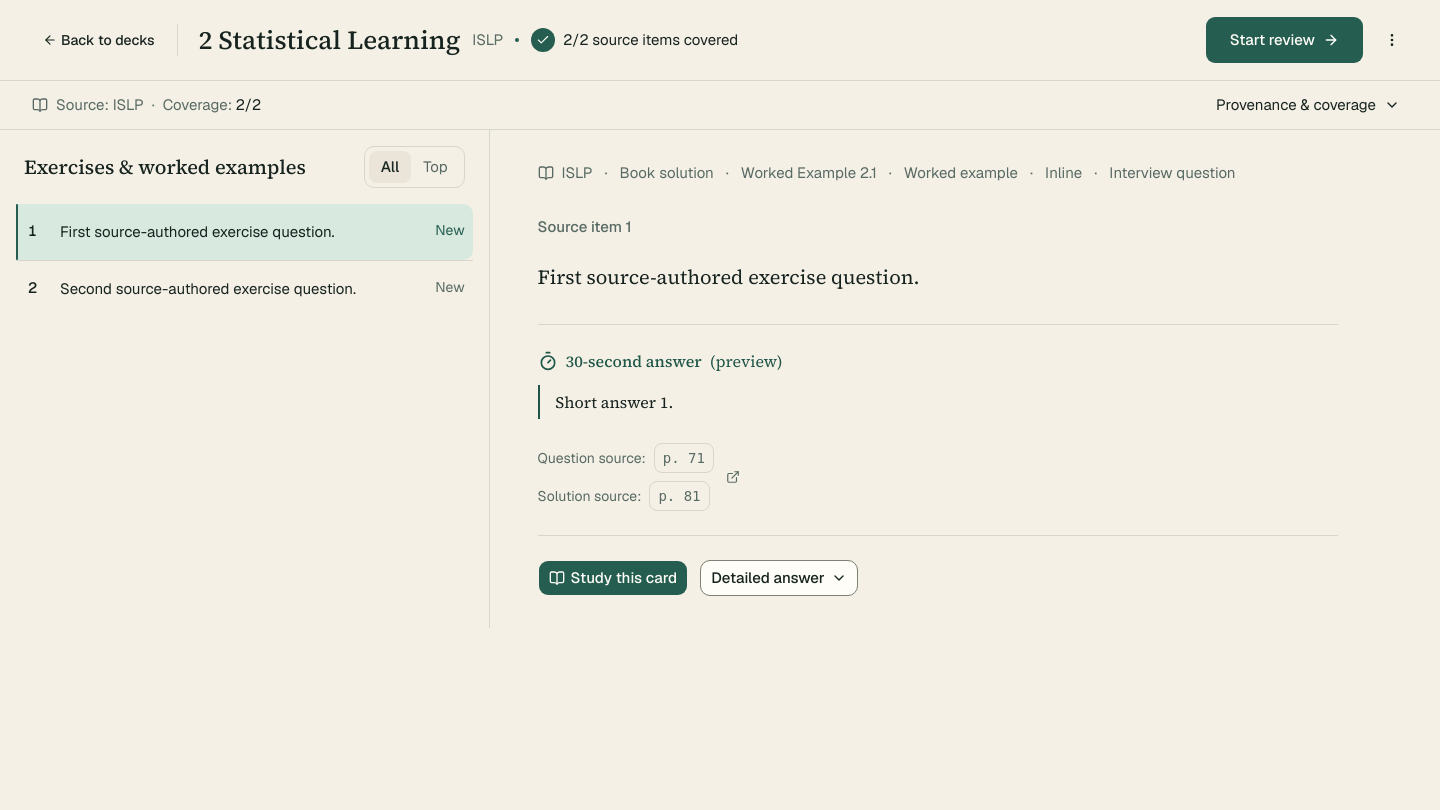
Test: deck question navigator › reveals the complete grounded answer below the short preview
Check: the text "Detailed grounded answer 1." is not shown
Step 1. Click the button "Detailed answer" → coordinates (779, 578), box [700,560,858,596]
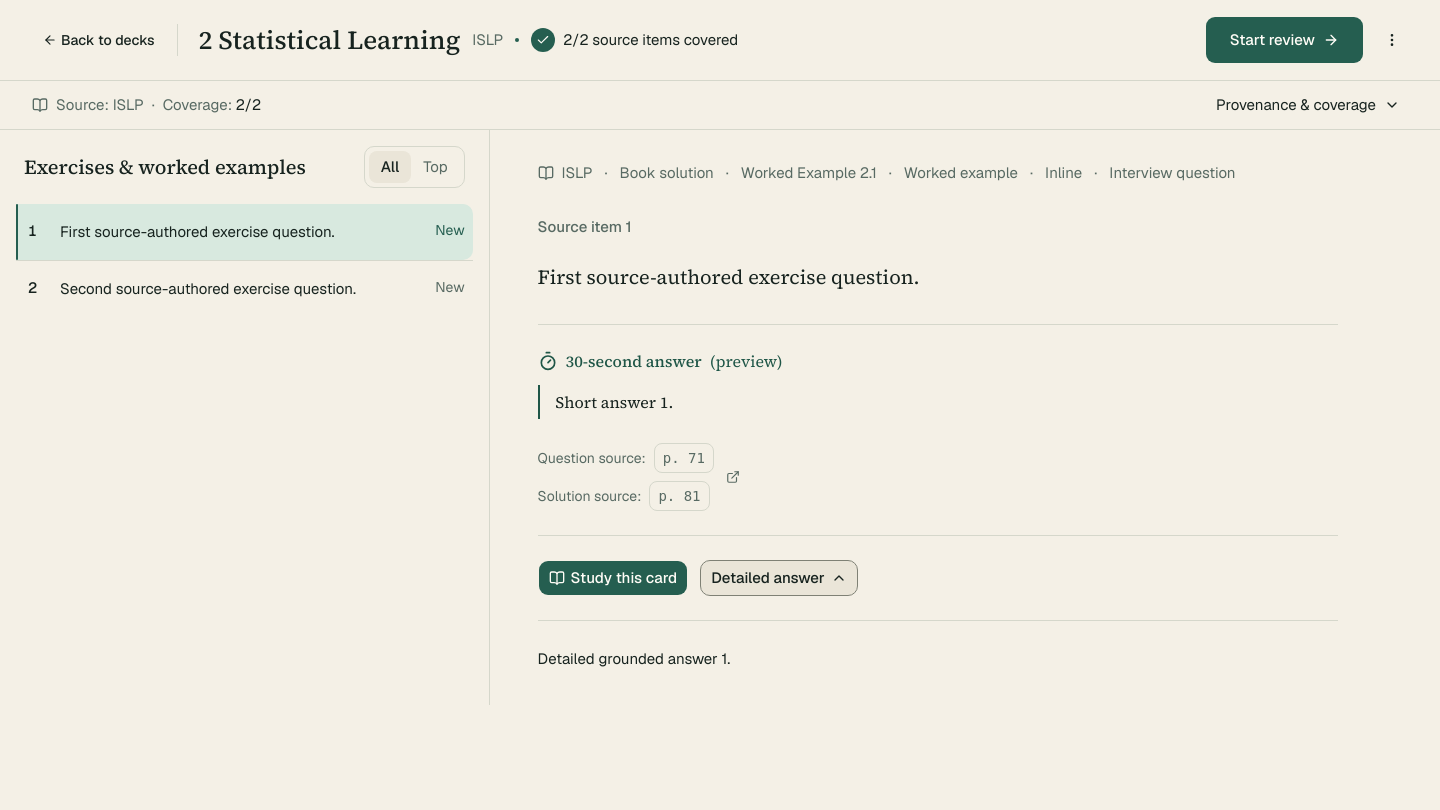
Check: the text "Detailed grounded answer 1." is shown, box [538,649,730,668]
